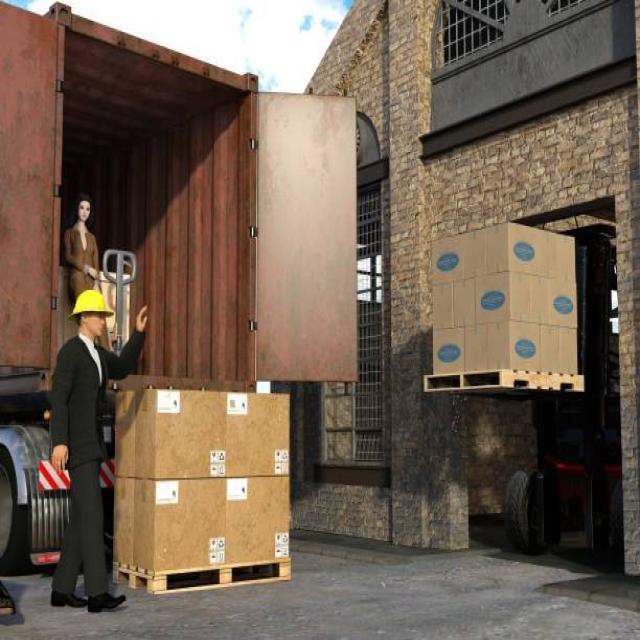Wooden-Pallets: (115, 556, 293, 595), (424, 366, 583, 398)
